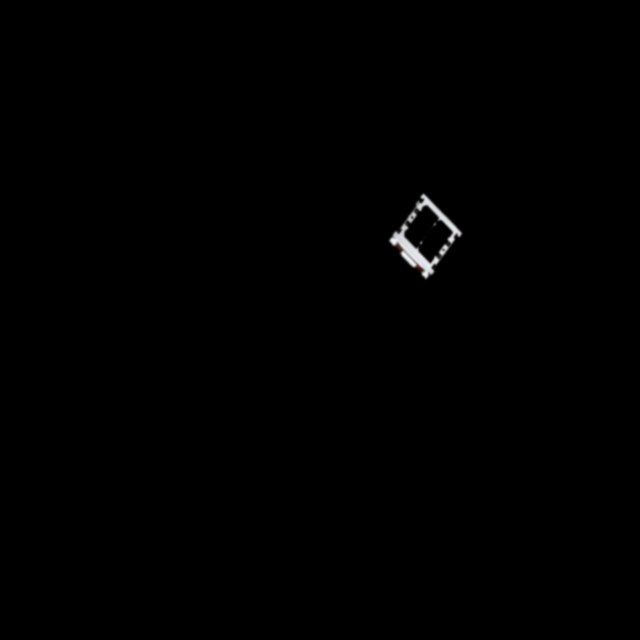satellite: (378, 193, 469, 281)
